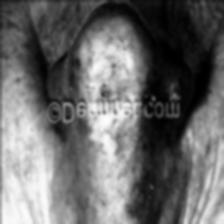Potentially Malignant Skin Tumors: (76, 44, 136, 90), (89, 122, 132, 155)
